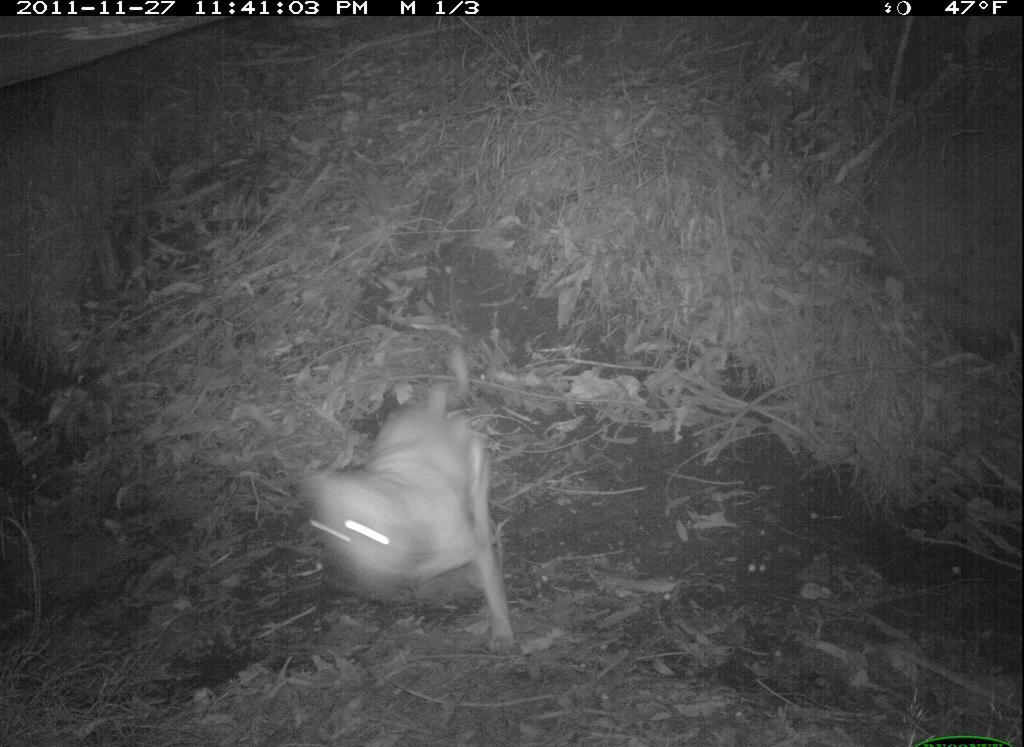dog: (253, 367, 546, 666)
